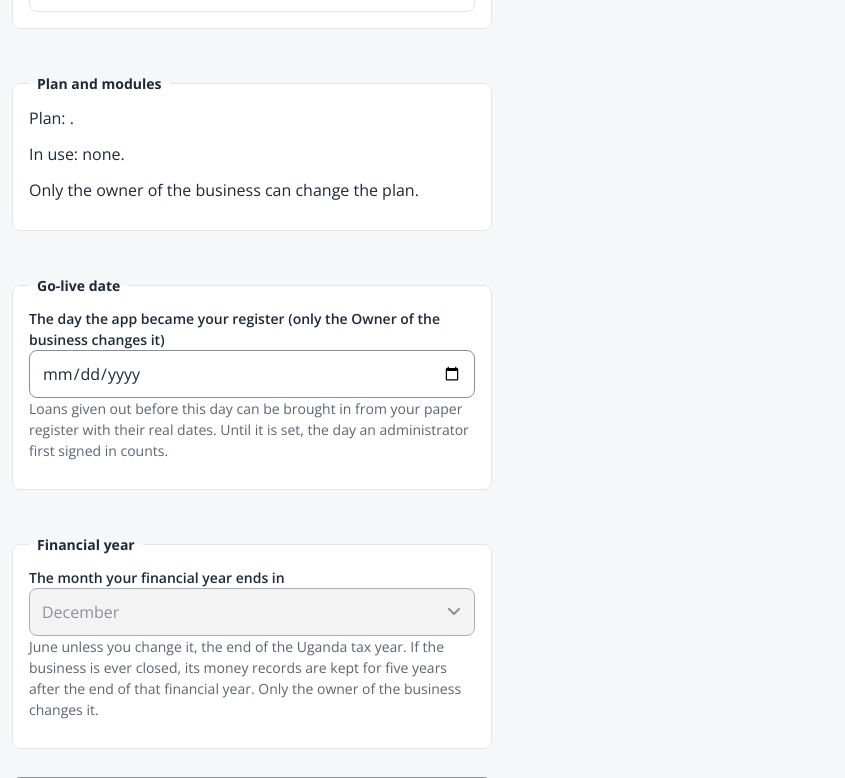
the go-live date › is offered to a lending business and saved as go_live_date
(page scrolled)
Type "2026-03-01" into the date field labelled "The day the app became your register" at (252, 374), box x1=29 y1=350 x2=475 y2=398
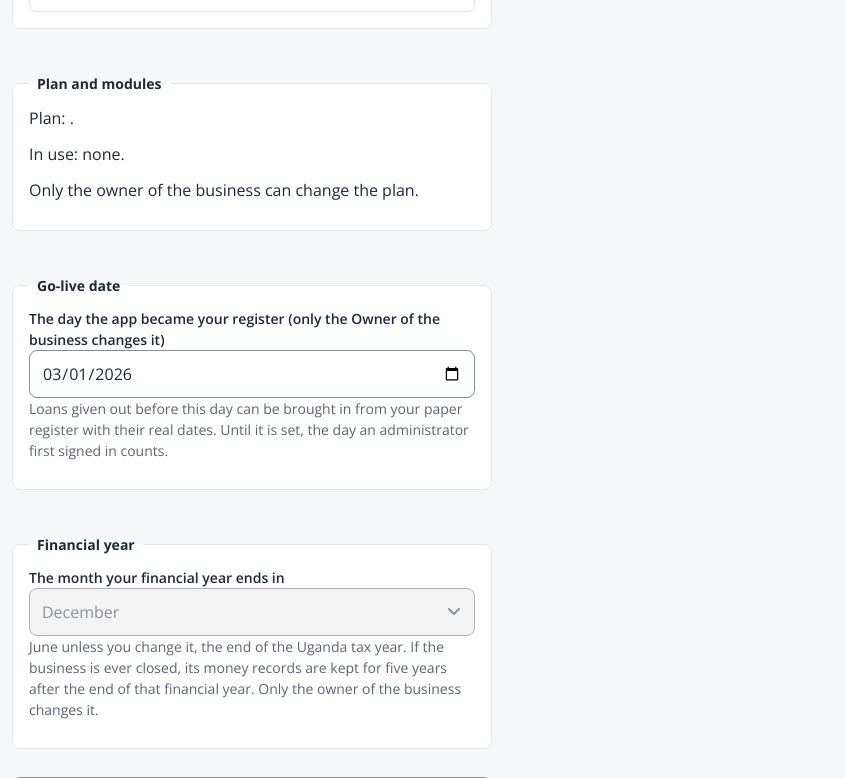
Leave the date field labelled "The day the app became your register", box x1=29 y1=350 x2=475 y2=398
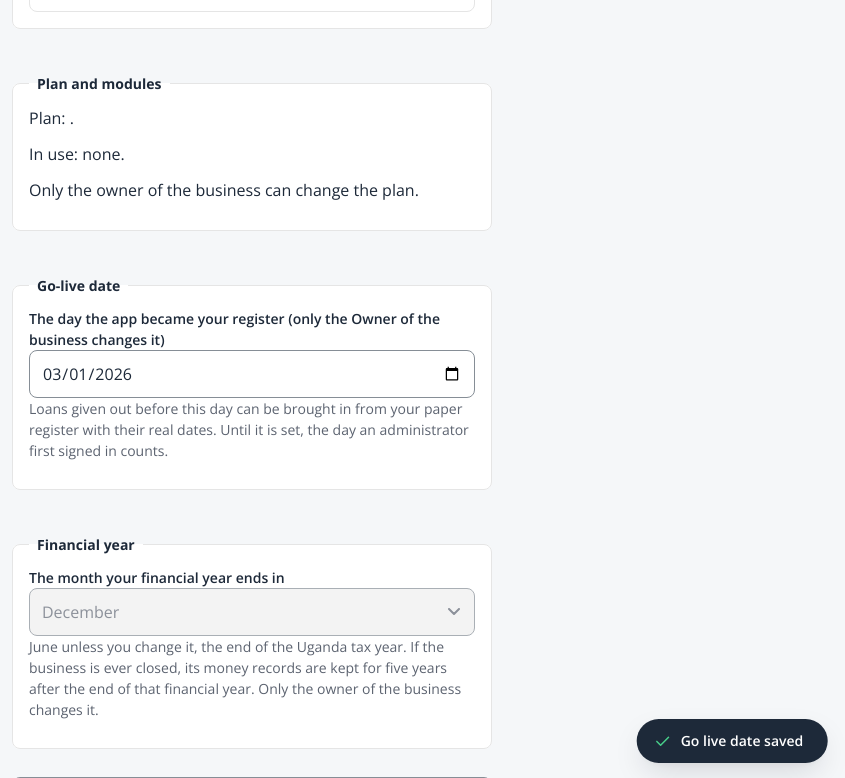
Expected: the text "Go live date saved" is shown, x1=681 y1=731 x2=803 y2=751
